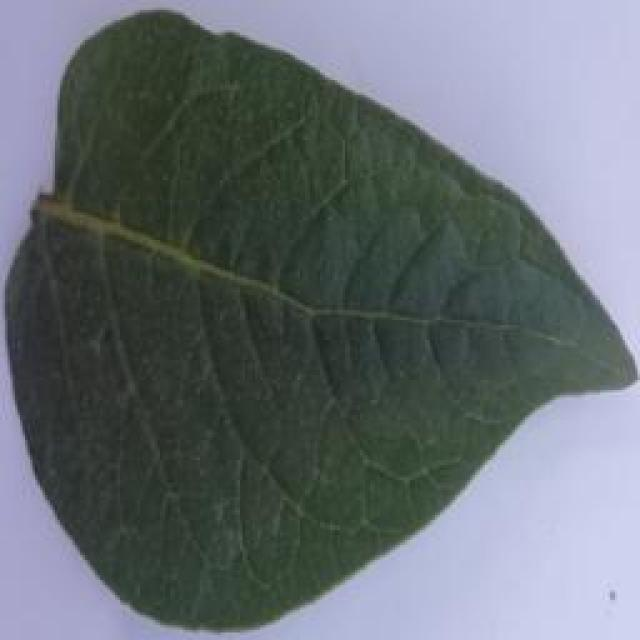Potato_Healthy: (11, 9, 628, 631)
